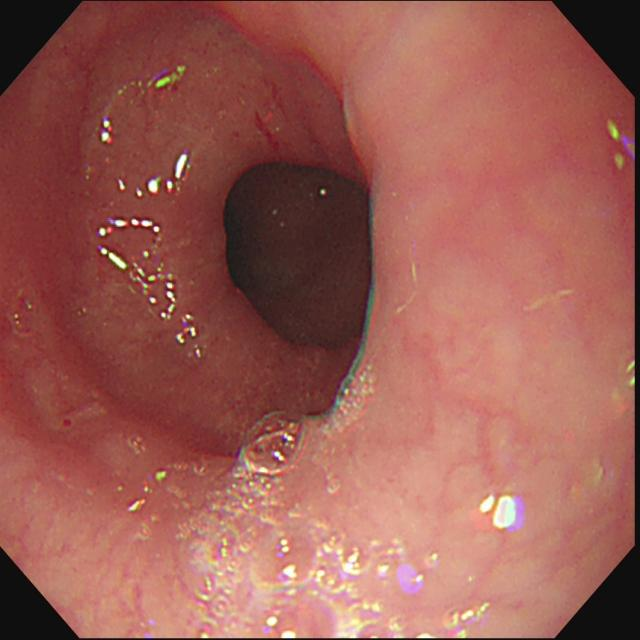E: (217, 155, 390, 359)
T: (173, 413, 342, 638), (344, 540, 489, 638), (324, 367, 374, 438), (8, 281, 42, 338)
U: (134, 262, 179, 322), (480, 494, 521, 533), (97, 217, 161, 239), (148, 64, 186, 91), (166, 155, 190, 194), (117, 179, 161, 200), (101, 248, 131, 274), (178, 314, 198, 345), (98, 116, 115, 145)
